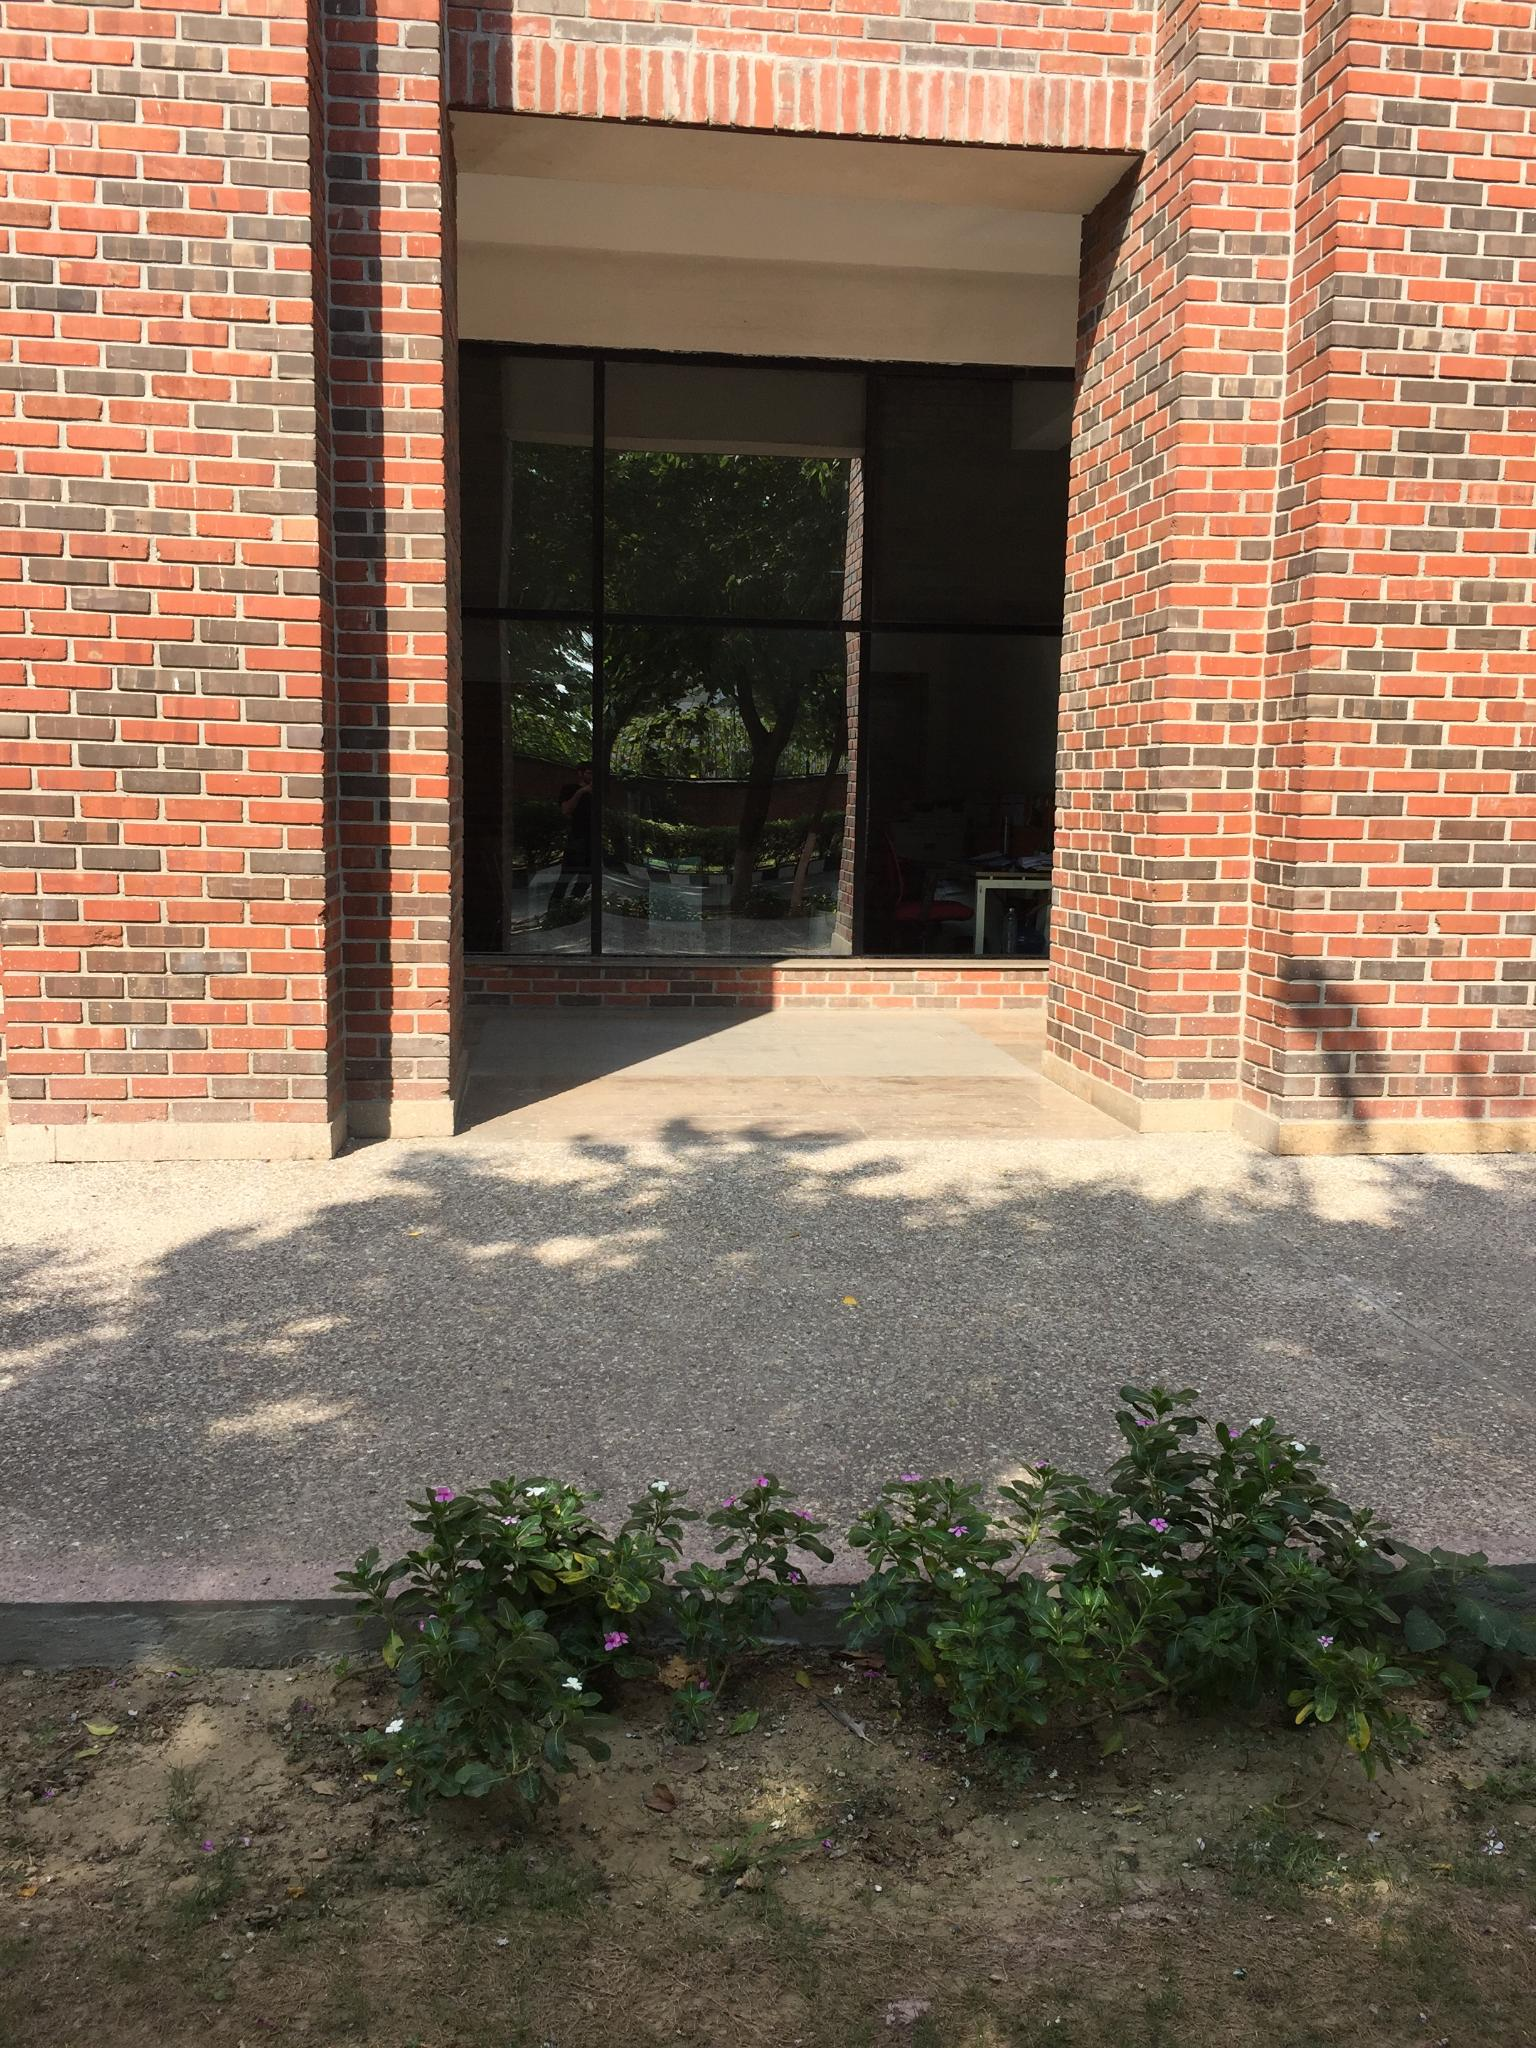chair: (876, 830, 971, 963)
